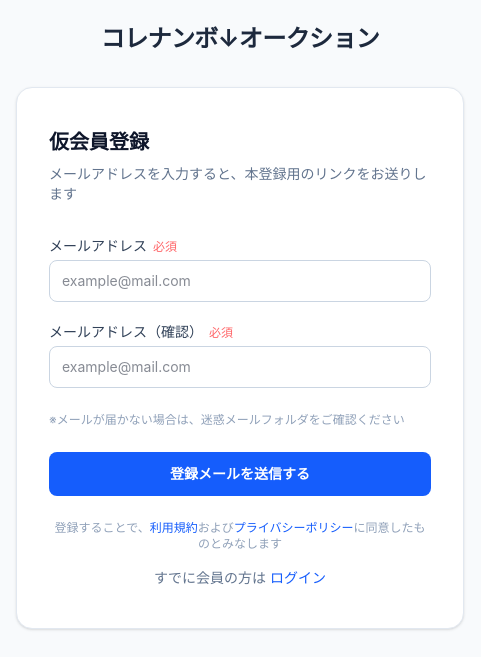
UserRegistrationPage › クライアントサイドバリデーション › 確認用メールアドレスが空のときエラーが表示される
Type "test@example.com" into the field with placeholder "example@mail.com" at (240, 281), box [49,260,431,302]
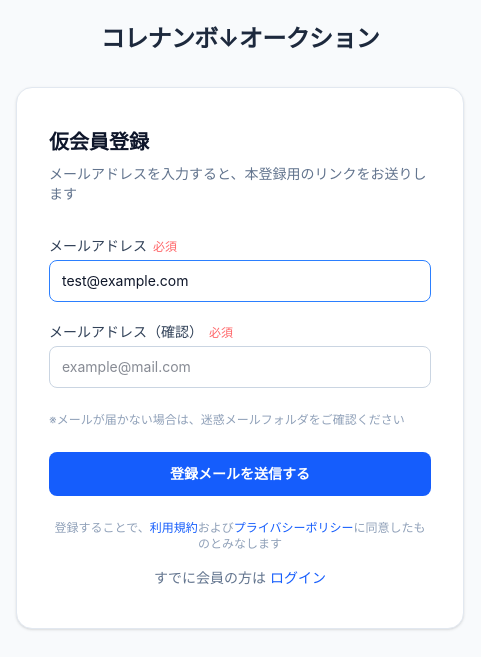
Click the button "登録メールを送信する" at (240, 474), box [49,452,431,496]
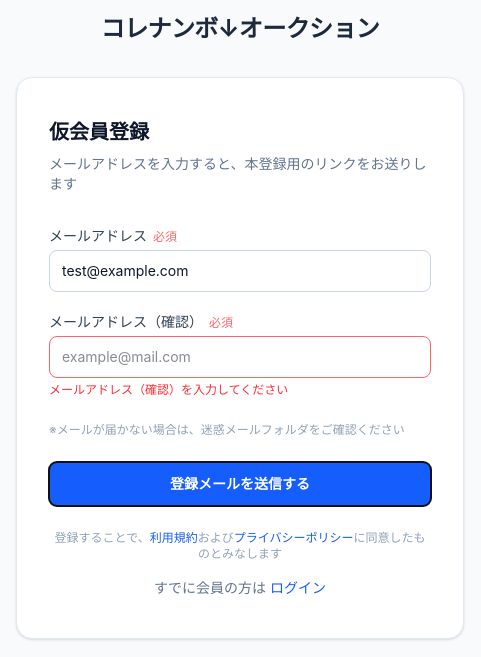
Expected: the text "メールアドレス（確認）を入力してください" is shown, [49,382,288,397]
